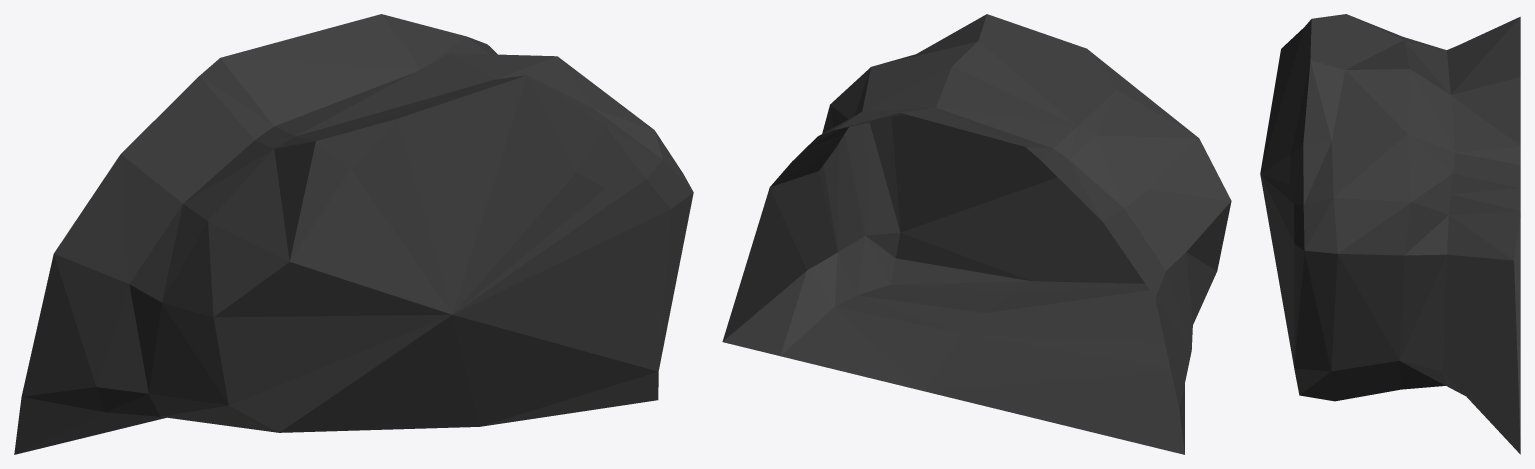
The model's file is Cave_end_LOD_2.fbx.
The picture shows the model from 3 angles, left to right: view 1: azimuth 30°, elevation 25°; view 2: azimuth 150°, elevation 25°; view 3: azimuth 270°, elevation 25°; orthographic projection. The views are drawn at different scales.
Visible parts, largest first — view 1: pCylinder10; view 2: pCylinder10; view 3: pCylinder10.
Boxes of the visible parts, x1,y1,x2,y2 form: pCylinder10: (14, 14, 693, 454); pCylinder10: (722, 14, 1231, 454); pCylinder10: (1260, 14, 1520, 454).
Size of the model in its own units: 8.81 by 5.37 by 4.08.
